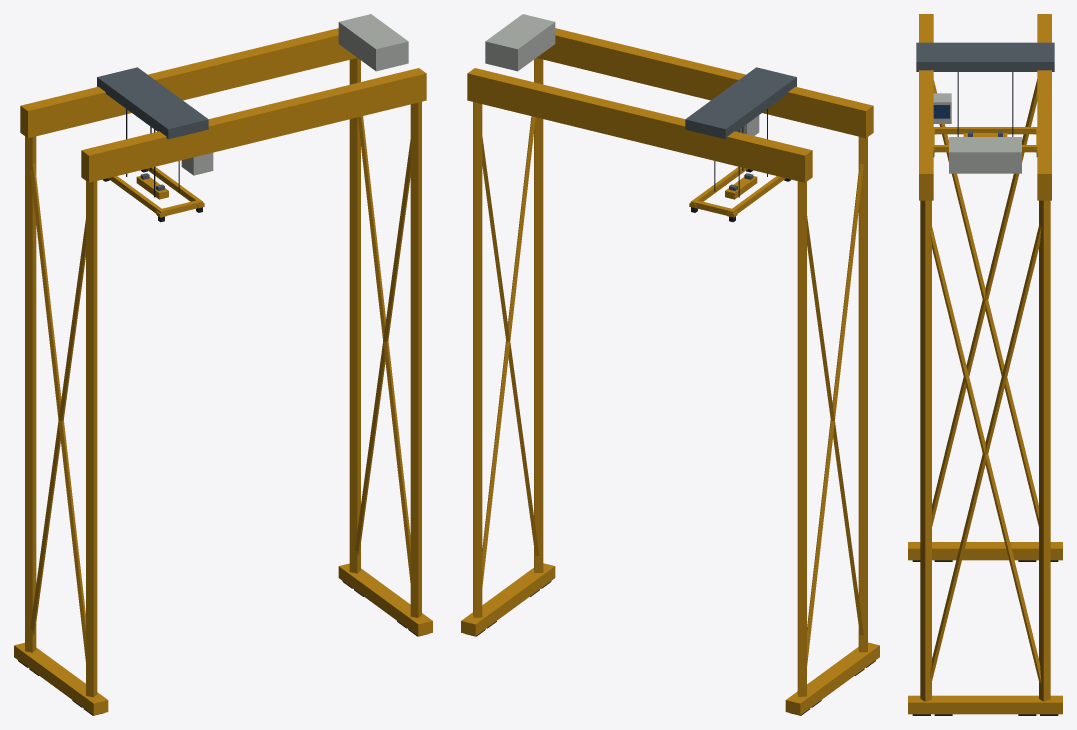
The model's file is yard-gantry-tall.glb.
3 views of the same model, side by side, from view 1: azimuth 30°, elevation 25°; view 2: azimuth 150°, elevation 25°; view 3: azimuth 270°, elevation 25° (orthographic). The views are drawn at different scales.
Visible parts, largest first — view 1: yard-gantry-tall; view 2: yard-gantry-tall; view 3: yard-gantry-tall.
Boxes of the visible parts, x1,y1,x2,y2 form: yard-gantry-tall: [14, 14, 432, 715]; yard-gantry-tall: [461, 14, 879, 715]; yard-gantry-tall: [908, 14, 1062, 715].
Size of the model in its own units: 41.8 by 68.2 by 17.
